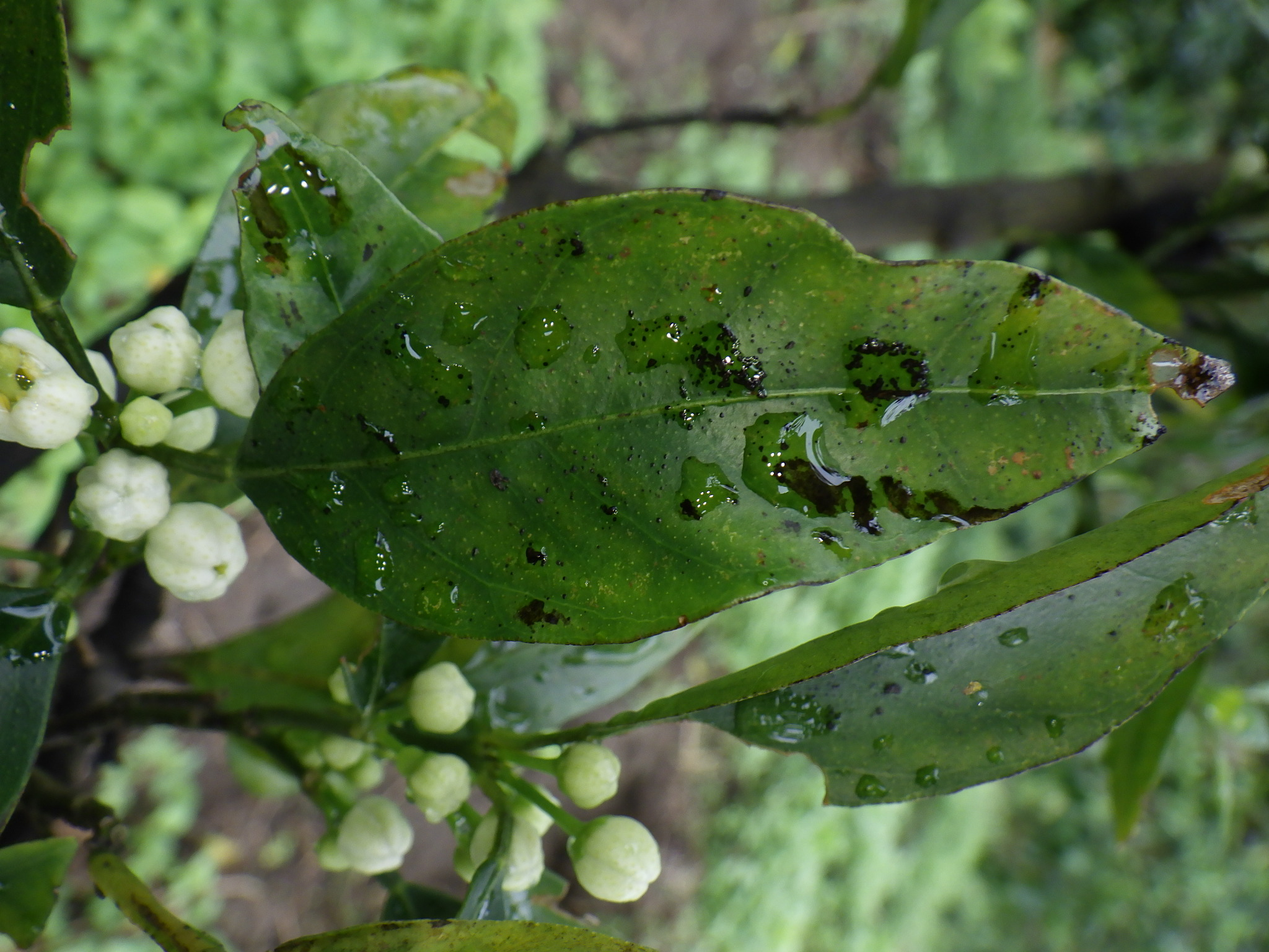Black_Spot: (235, 190, 1228, 643)
